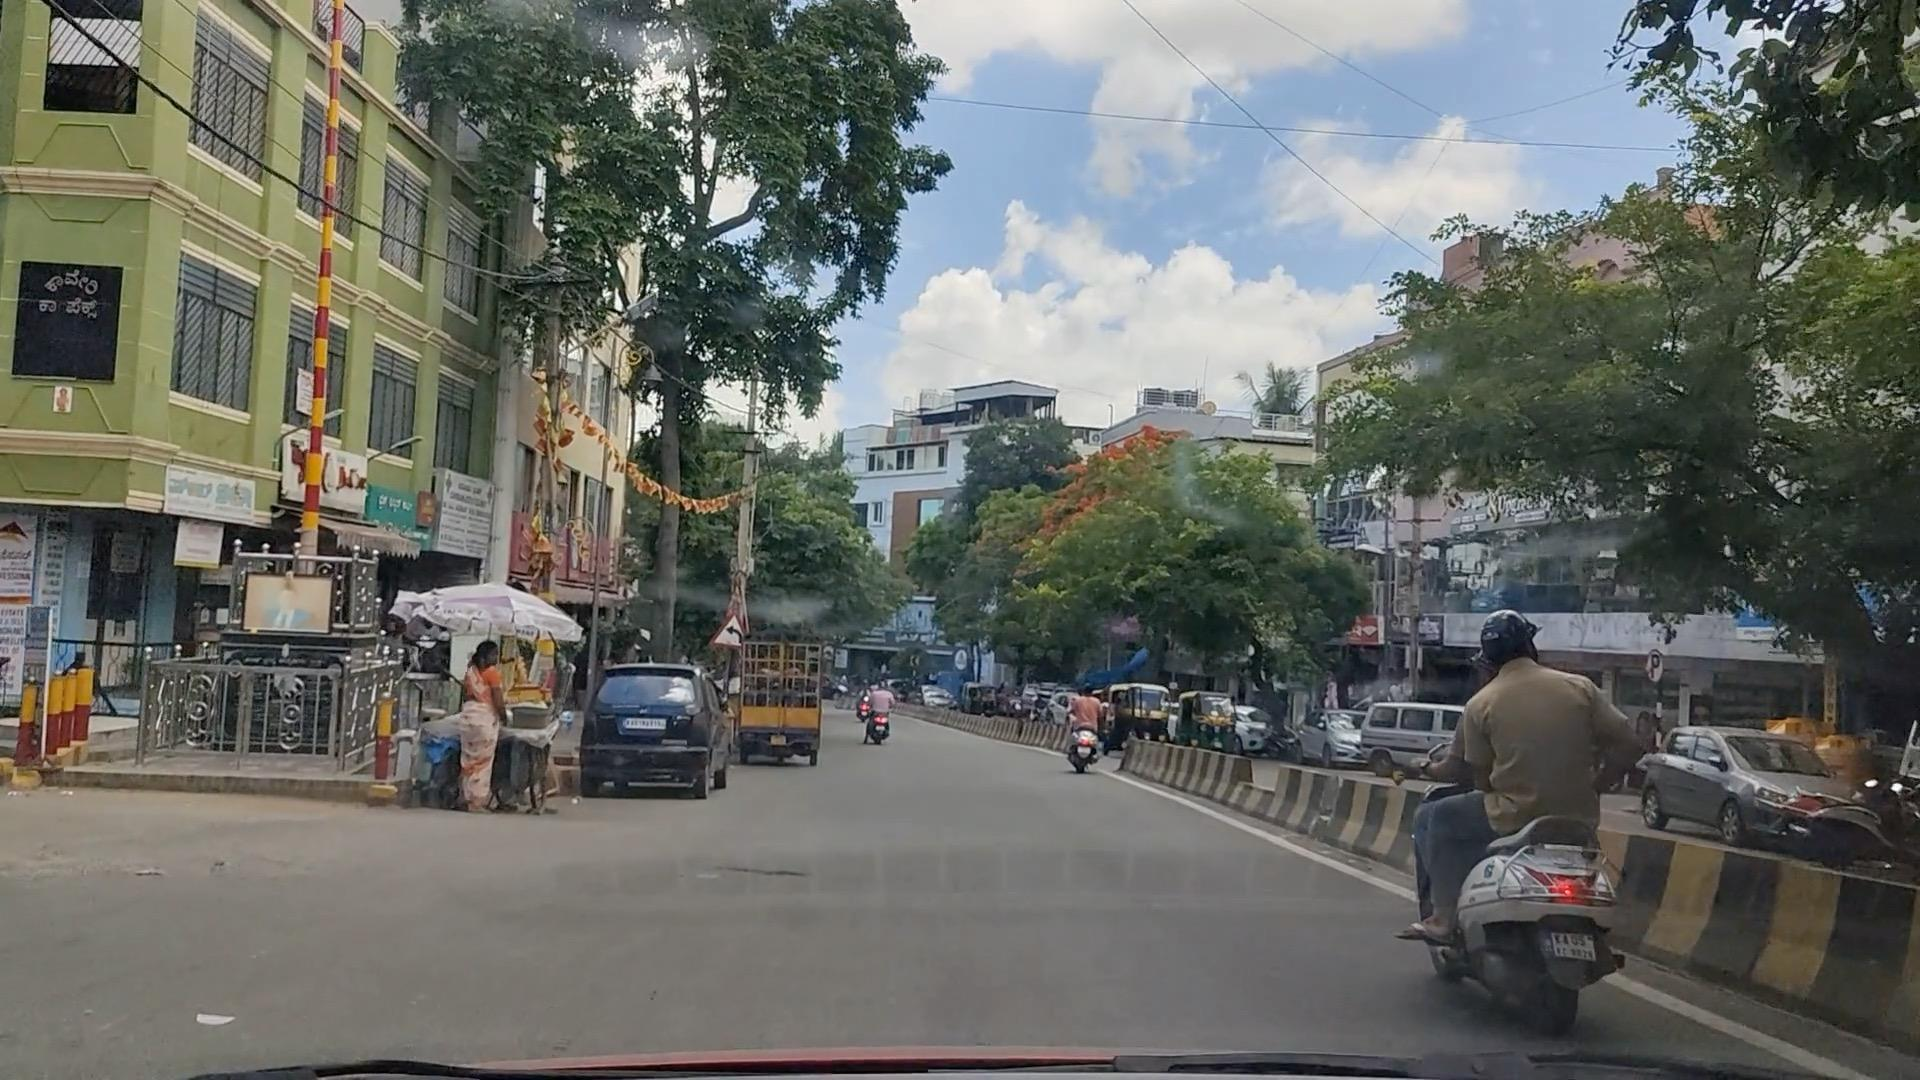LMV: (1436, 626, 1588, 961), (600, 667, 724, 783)
RoadDamages: (690, 829, 812, 898)
